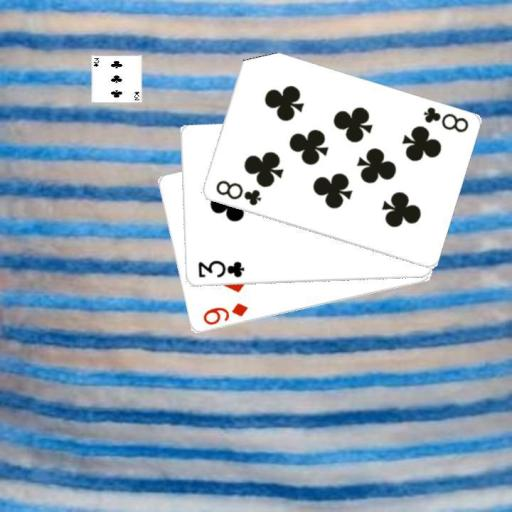3C: (195, 258, 245, 280)
8C: (212, 177, 262, 208), (420, 104, 470, 134)
9D: (199, 300, 249, 326)
